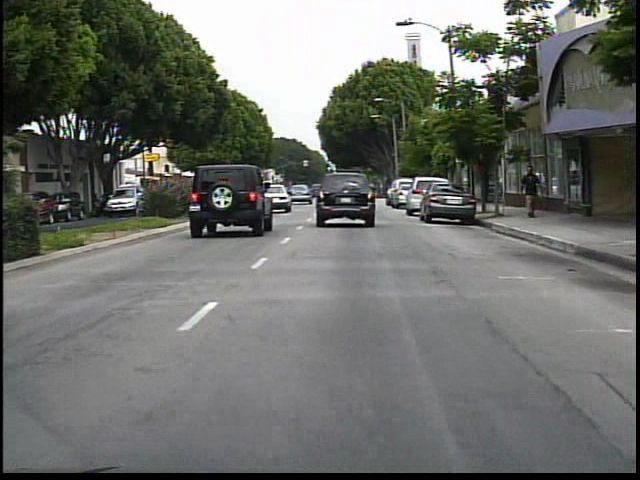person: (517, 164, 543, 224)
